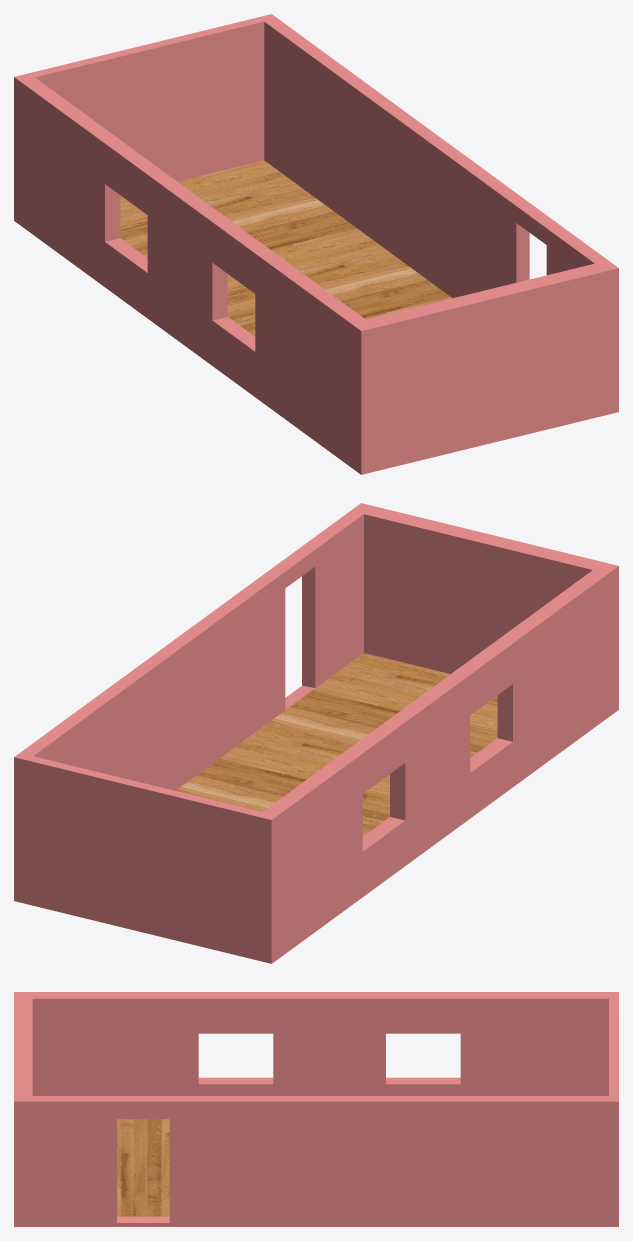
File: Walls & Floor.FBX
3 views of the same model, one above another, from view 1: azimuth 30°, elevation 25°; view 2: azimuth 150°, elevation 25°; view 3: azimuth 270°, elevation 25° (orthographic). The views are drawn at different scales.
Parts seen in each view (by area): view 1: Box002, Walls & Floor; view 2: Box002, Walls & Floor; view 3: Box002, Walls & Floor.
Boxes of the visible parts, left/top/right/bottom form: Box002: left=14, top=14, right=618, bottom=474; Walls & Floor: left=120, top=160, right=452, bottom=336; Box002: left=14, top=503, right=618, bottom=963; Walls & Floor: left=175, top=653, right=497, bottom=836; Box002: left=14, top=992, right=618, bottom=1226; Walls & Floor: left=117, top=1119, right=169, bottom=1216.
Bounding box in the file's own units: 177 × 94.49 × 413.
3 materials, 1 textured.
